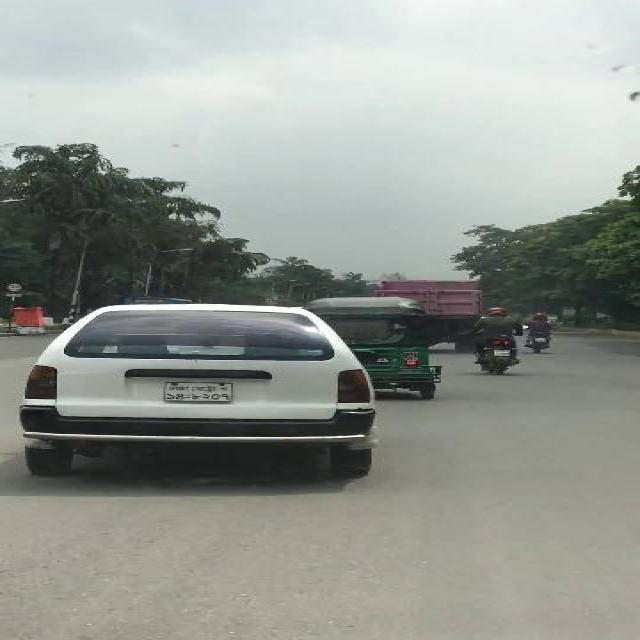car: (18, 301, 378, 482)
motorcycle: (366, 295, 439, 394), (462, 305, 526, 376), (523, 311, 549, 352)
